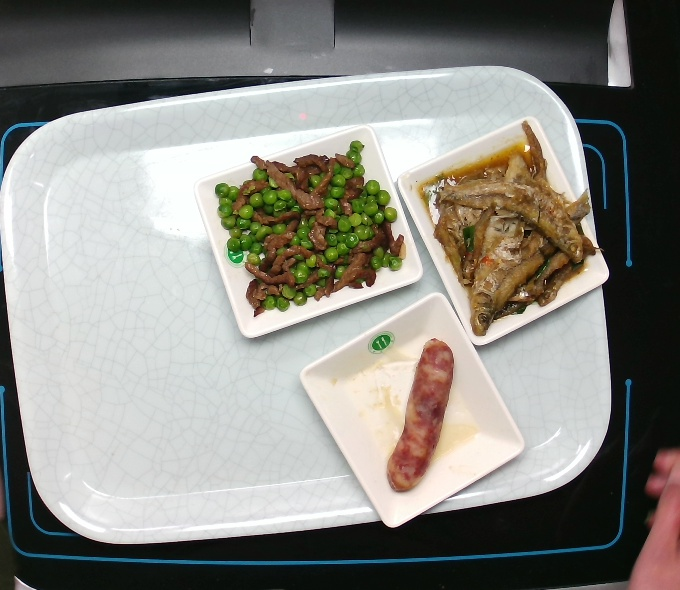wcq-CanDouNiuRou: (206, 132, 414, 323)
wcq-XiangChang: (383, 334, 463, 497)
wcq-XiaoJiYu: (412, 119, 608, 344)
